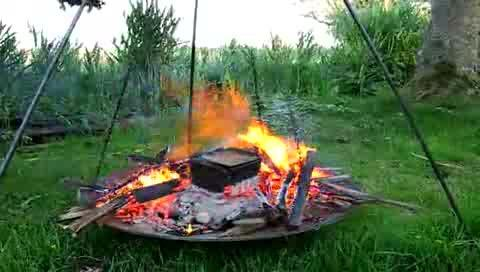fire: (132, 91, 309, 187)
